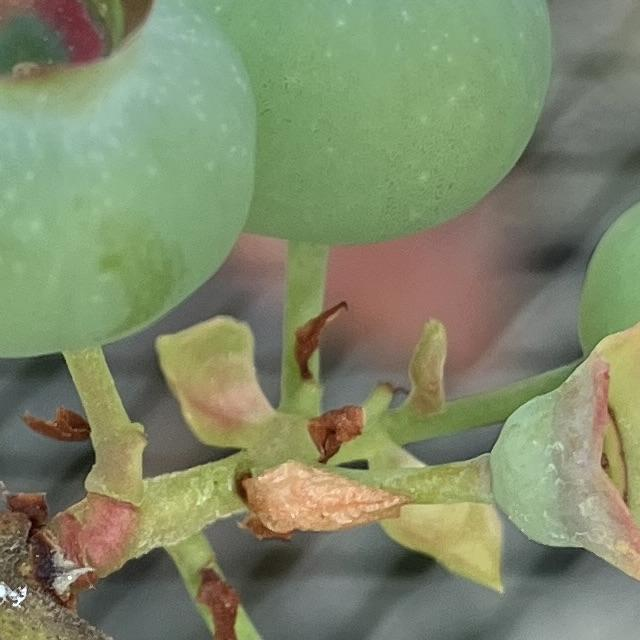Blueberries: (106, 0, 553, 250), (0, 0, 257, 360)
